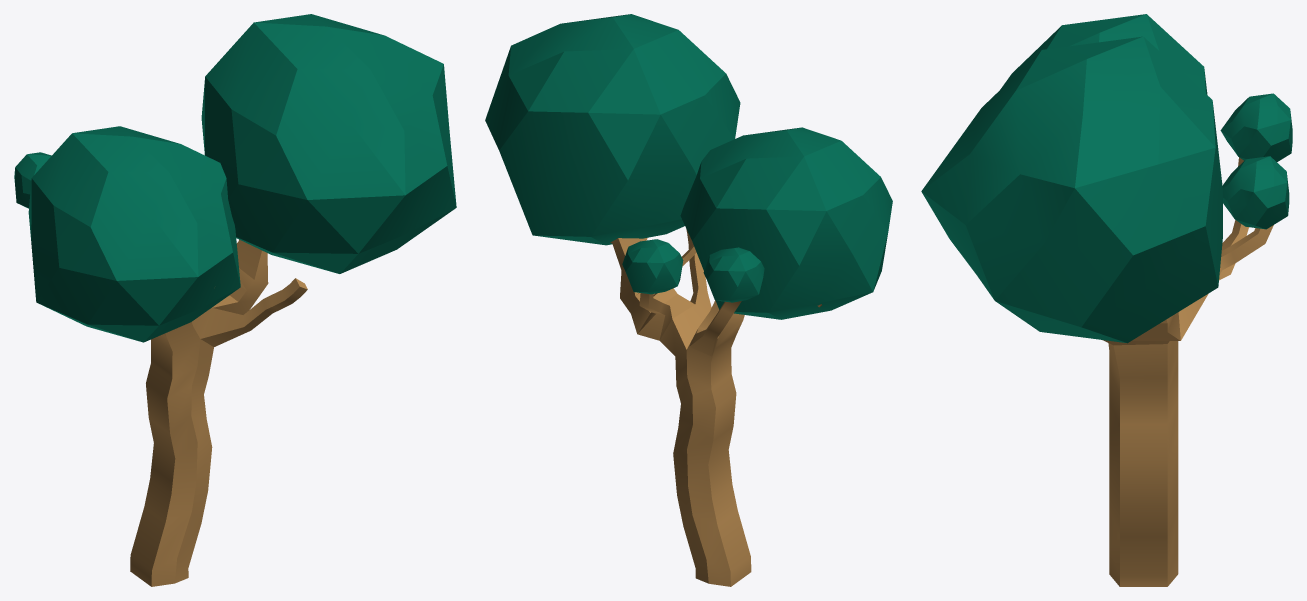
Rendered from tree.fbx.
The picture shows the model from 3 angles, left to right: view 1: azimuth 30°, elevation 25°; view 2: azimuth 150°, elevation 25°; view 3: azimuth 270°, elevation 25°; orthographic projection. The views are drawn at different scales.
Parts seen in each view (by area): view 1: Icosphere, Icosphere.001, Cube, Icosphere.003; view 2: Icosphere, Icosphere.001, Cube, Icosphere.003, Icosphere.002; view 3: Icosphere, Cube, Icosphere.001, Icosphere.002, Icosphere.003.
Boxes of the visible parts, x1,y1,x2,y2 form: Icosphere: [201, 14, 456, 273]; Icosphere.001: [28, 126, 240, 342]; Cube: [130, 239, 307, 586]; Icosphere.003: [14, 152, 51, 208]; Icosphere: [485, 14, 740, 245]; Icosphere.001: [680, 127, 892, 319]; Cube: [610, 229, 821, 586]; Icosphere.003: [703, 247, 764, 302]; Icosphere.002: [622, 239, 683, 294]; Icosphere: [921, 36, 1222, 343]; Cube: [1102, 157, 1273, 586]; Icosphere.001: [1000, 14, 1207, 94]; Icosphere.002: [1222, 156, 1289, 229]; Icosphere.003: [1220, 93, 1292, 161].
Size of the model in its own units: 204 by 262 by 148.
Materials: 2 (2 with a texture image).
